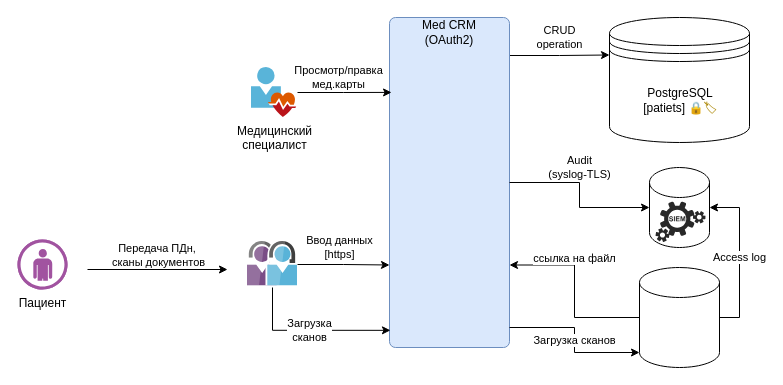
Image size: 783x385. Some labels were removed from this diagram. Here are the shapes that lost their labels. From the top down, the centre of each, then its label:
At point 272,264: "Ресепшен".
At point 679,317: "min.io bucket [scans] 🔒🏷".
